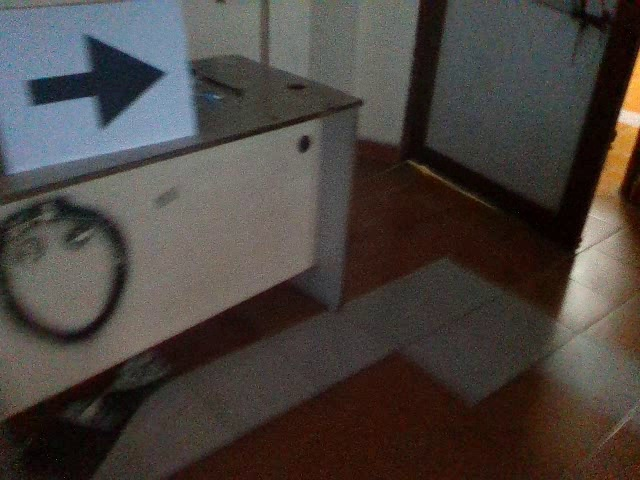Right: (17, 28, 167, 139)
